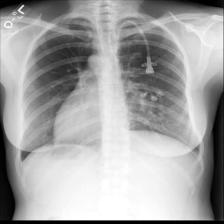normal: (11, 8, 207, 180)
